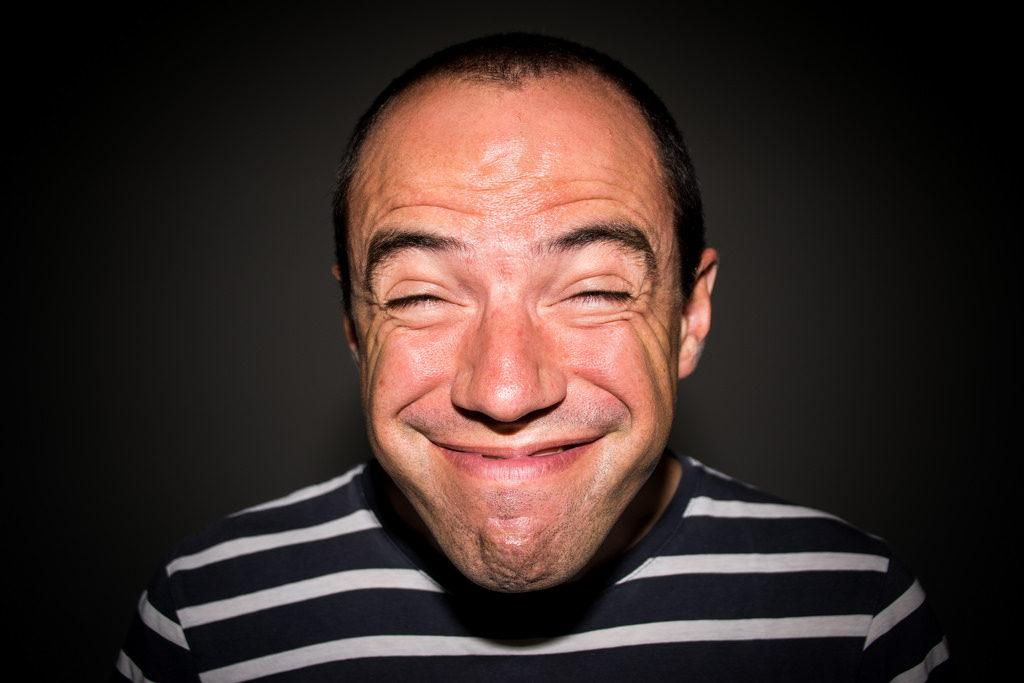Persons: (285, 14, 741, 592)
